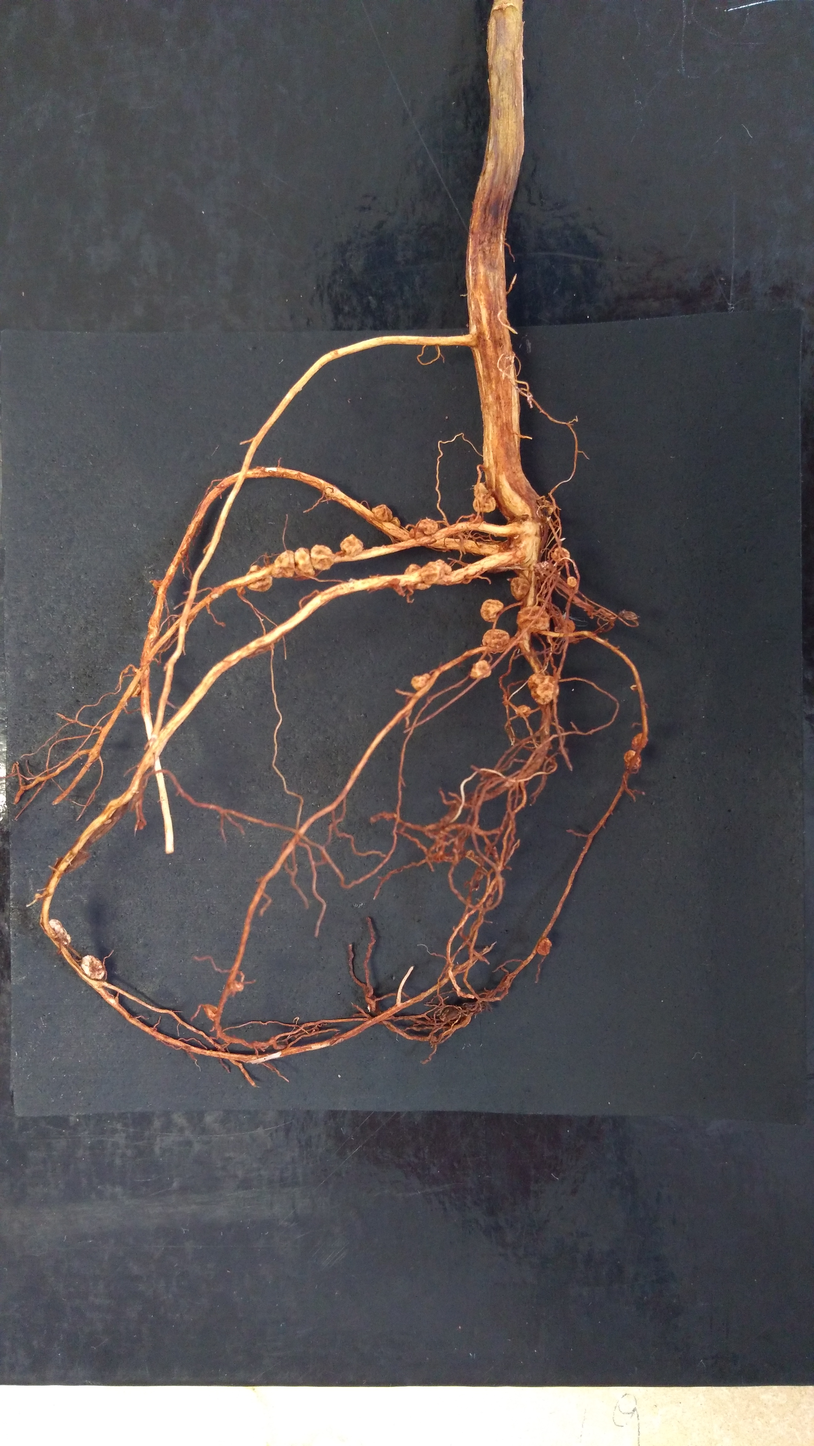nodule: (527, 673, 560, 705), (516, 605, 550, 632), (245, 565, 273, 593), (404, 563, 432, 590), (271, 549, 295, 579), (80, 954, 105, 980), (310, 544, 334, 571), (292, 547, 315, 575), (48, 918, 71, 945), (480, 598, 504, 623), (482, 628, 510, 649), (339, 533, 364, 556), (420, 561, 445, 583), (510, 577, 530, 602), (246, 642, 275, 659), (468, 660, 492, 680), (533, 561, 558, 579), (472, 494, 496, 512), (371, 503, 393, 522), (623, 749, 642, 769), (418, 518, 439, 535), (630, 732, 649, 750), (409, 674, 427, 691), (536, 937, 552, 956), (551, 547, 571, 562), (203, 1003, 218, 1022), (436, 558, 452, 575), (473, 482, 488, 497), (409, 525, 425, 539), (516, 705, 531, 717), (130, 682, 141, 698), (228, 981, 244, 992), (564, 619, 575, 632), (149, 579, 163, 589), (545, 504, 557, 515), (566, 576, 577, 588), (469, 514, 482, 524), (391, 517, 401, 527), (422, 672, 431, 680), (103, 818, 111, 825), (148, 691, 152, 697)
